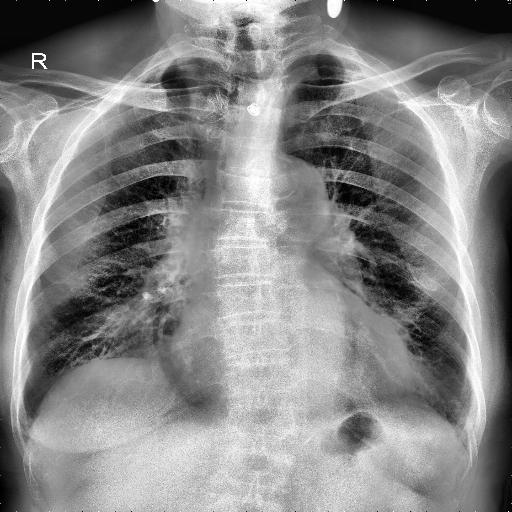0- Aortic enlargement: (234, 154, 326, 245), (237, 152, 333, 238), (264, 153, 336, 245)
11- Pleural thickening: (136, 56, 206, 73)
3- Cardiomegaly: (172, 316, 426, 404), (164, 317, 421, 398), (165, 336, 414, 410)
